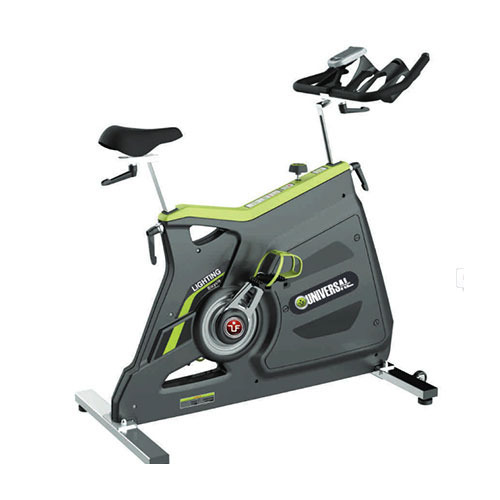gym_bike: (62, 26, 447, 483)
